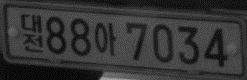0: (151, 23, 174, 63)
3: (176, 25, 200, 65)
4: (202, 27, 228, 66)
7: (125, 22, 148, 60)
8: (69, 17, 91, 56), (45, 15, 67, 53)
대전_V: (20, 13, 44, 53)
아: (93, 21, 116, 57)
